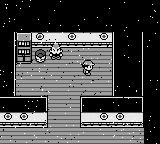leer: (34, 50, 46, 63)
main: (82, 61, 96, 75)
no-caminable: (1, 0, 160, 143), (113, 32, 141, 96), (32, 33, 112, 47), (81, 98, 142, 113), (81, 113, 142, 127), (1, 97, 47, 112), (1, 113, 48, 127), (16, 33, 31, 63)
npc: (49, 45, 64, 60)
